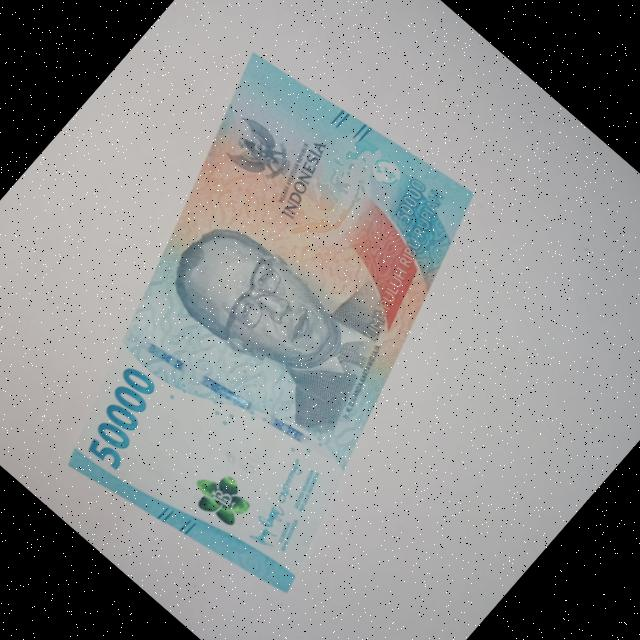50K: (0, 13, 583, 639)
